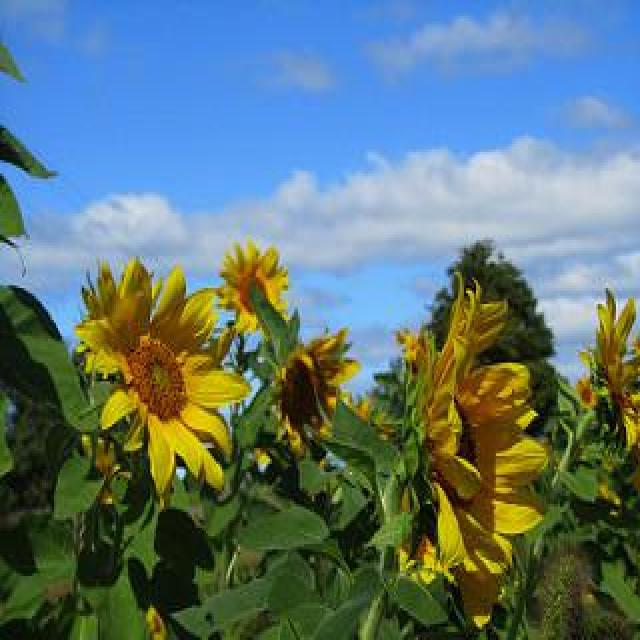sunflower: (402, 271, 550, 580), (74, 255, 251, 500), (276, 329, 362, 455), (578, 289, 640, 450), (215, 238, 291, 332), (80, 435, 134, 503), (460, 578, 500, 625)
